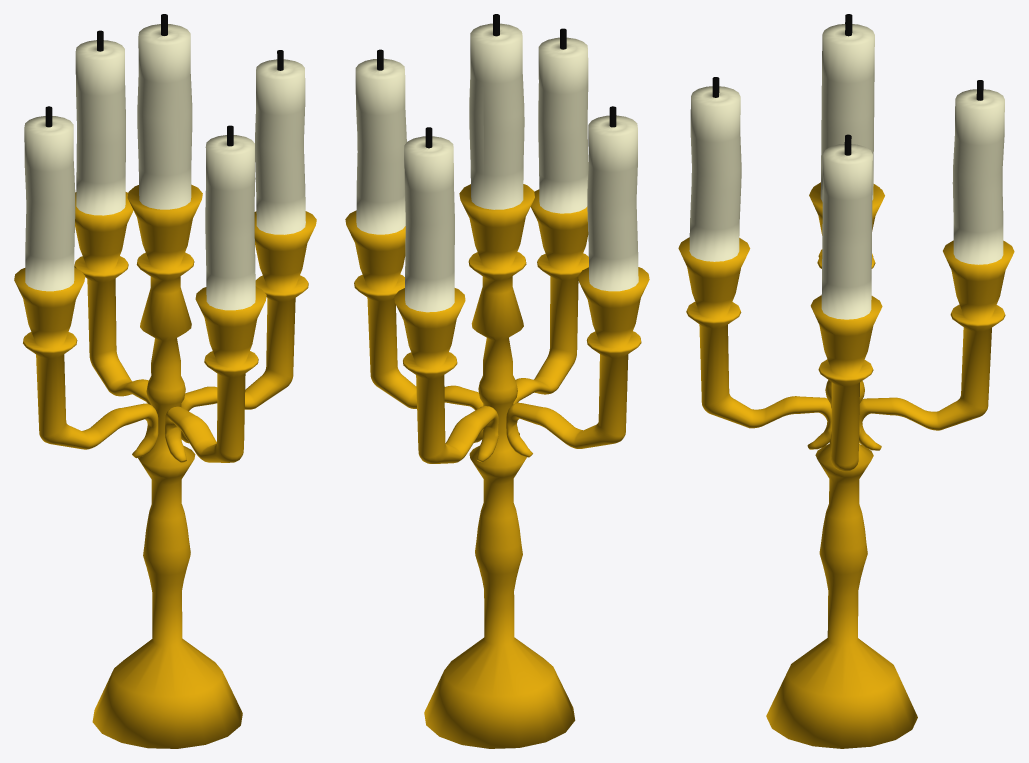
File: f_candlestick_03.fbx
3 views of the same model, side by side, from view 1: azimuth 30°, elevation 25°; view 2: azimuth 150°, elevation 25°; view 3: azimuth 270°, elevation 25° (orthographic).
Visible parts, largest first — view 1: Circle.002; view 2: Circle.002; view 3: Circle.002.
Part boxes in pixels (x1=…): Circle.002: x1=14, y1=14, x2=316, y2=748; Circle.002: x1=345, y1=14, x2=649, y2=748; Circle.002: x1=678, y1=14, x2=1014, y2=748.
Size of the model in its own units: 154 by 350 by 152.
